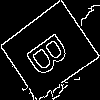B: (24, 25, 79, 79)
